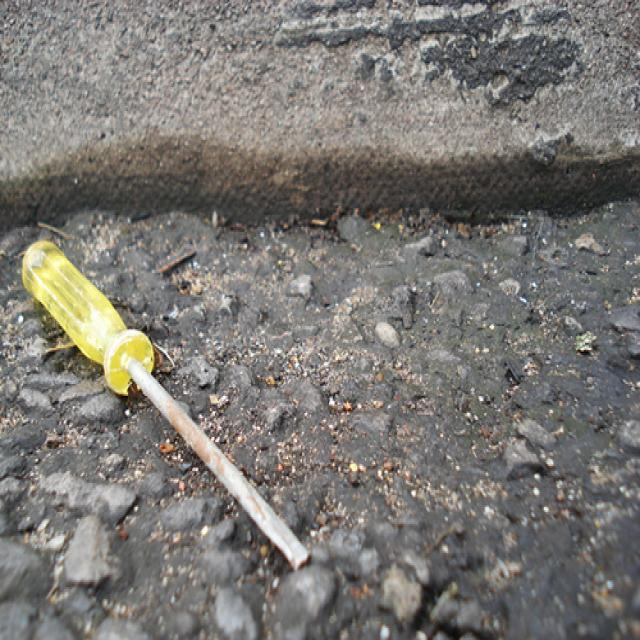screwdriver: (0, 215, 329, 628)
